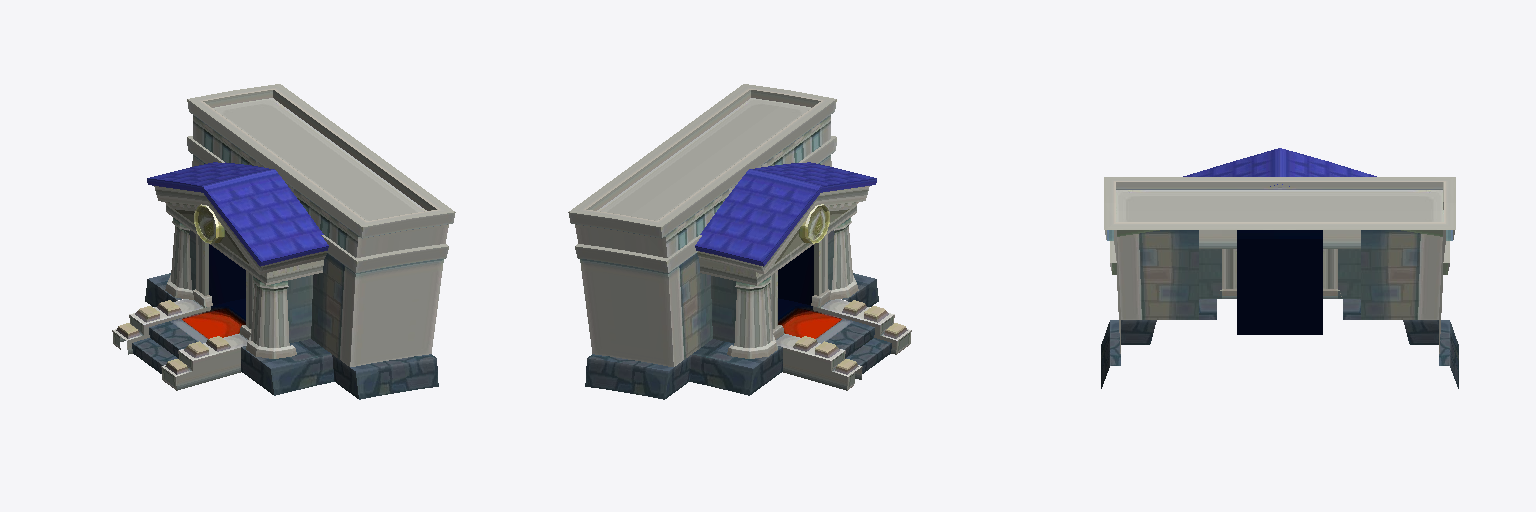
3 renders of one model, left to right at view 1: azimuth 30°, elevation 25°; view 2: azimuth 150°, elevation 25°; view 3: azimuth 270°, elevation 25°, orthographic.
Visible parts, largest first — view 1: Musuem_Front; view 2: Musuem_Front; view 3: Musuem_Front.
Part boxes in pixels (x1,y1,x2,y2): Musuem_Front: (112,84,455,399); Musuem_Front: (568,84,911,399); Musuem_Front: (1101,148,1458,388).
Bounding box in the file's own units: 1.81 × 1.36 × 2.5.
Materials: 4 (2 with a texture image).